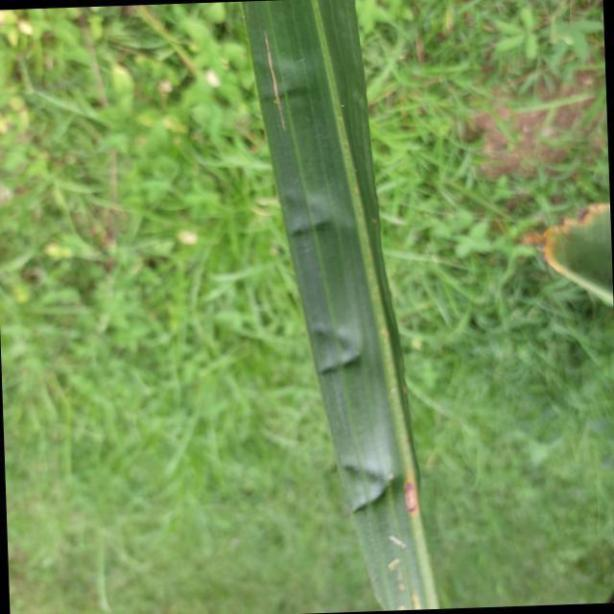Boron: (238, 0, 443, 614)
